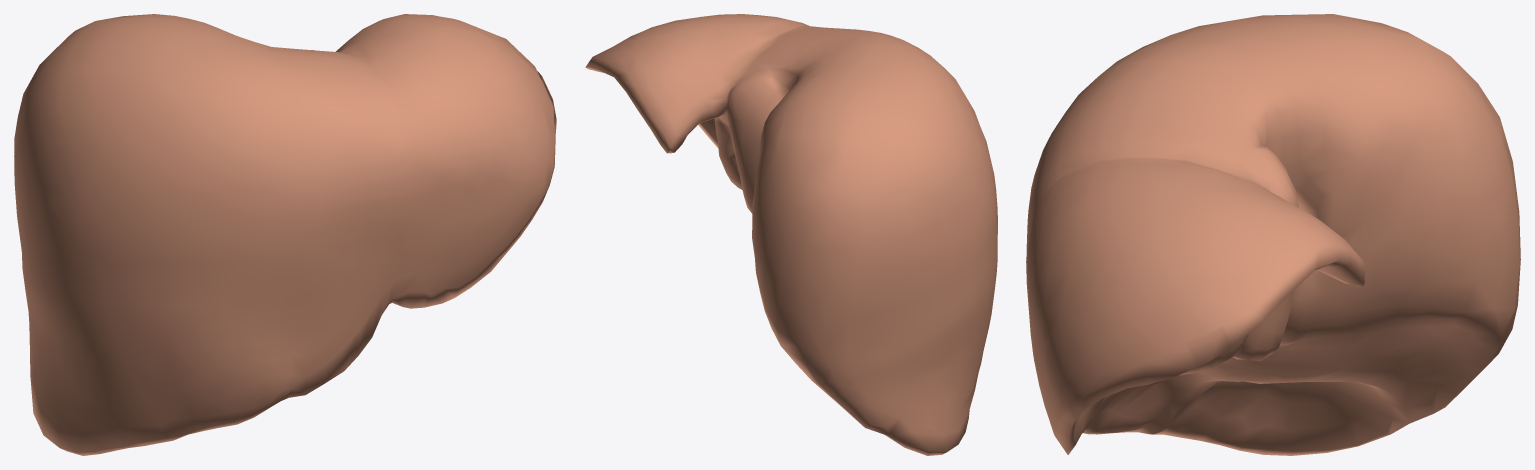
File: liver.glb
The picture shows the model from 3 angles, left to right: view 1: azimuth 30°, elevation 25°; view 2: azimuth 150°, elevation 25°; view 3: azimuth 270°, elevation 25°; orthographic projection. The views are drawn at different scales.
Parts seen in each view (by area): view 1: Liver; view 2: Liver; view 3: Liver.
Part boxes in pixels (box(x1,y1,x2,y2)): Liver: box(14, 14, 556, 455); Liver: box(585, 14, 997, 455); Liver: box(1026, 14, 1520, 455).
Size of the model in its own units: 0.2084 by 0.1678 by 0.1541.
